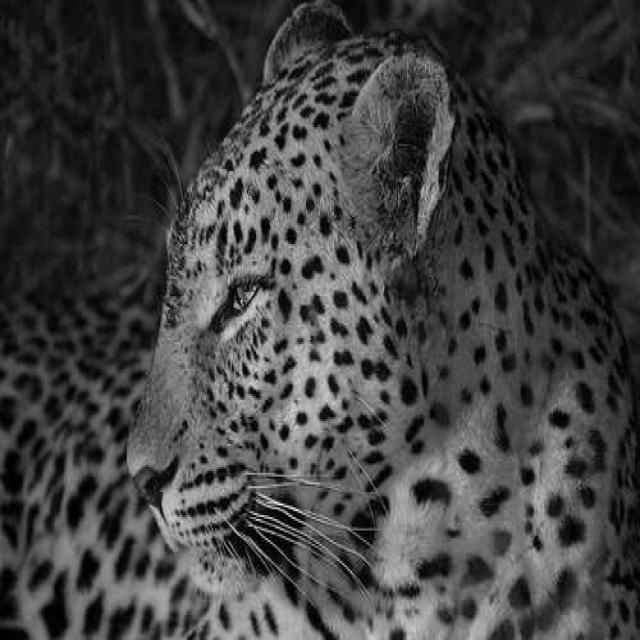Leopard: (123, 0, 639, 638)
